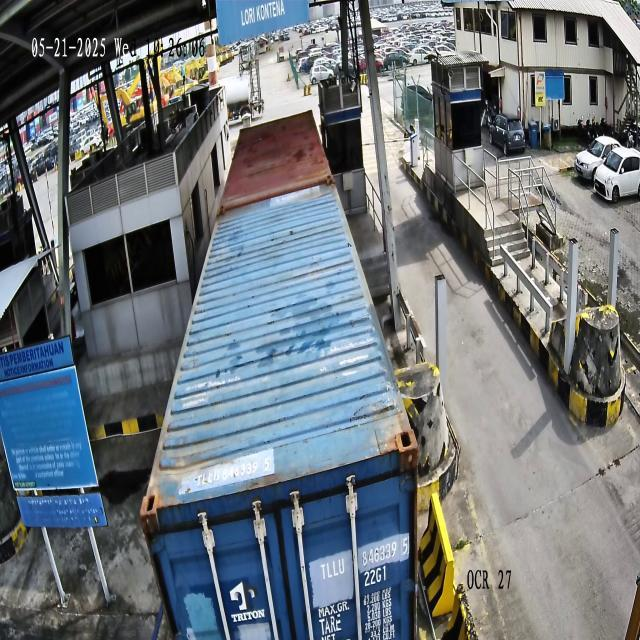ISO: (363, 562, 389, 590)
container_number: (318, 536, 408, 582)
